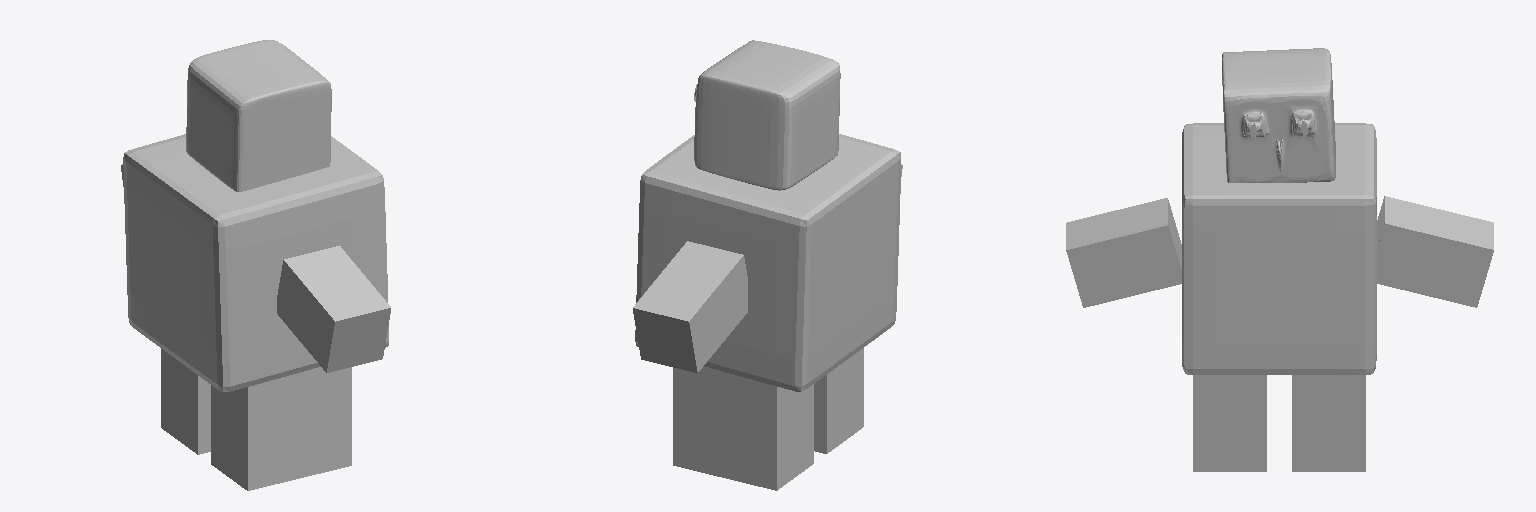
3 renders of one model, left to right at view 1: azimuth 30°, elevation 25°; view 2: azimuth 150°, elevation 25°; view 3: azimuth 270°, elevation 25°, orthographic.
Parts seen in each view (by area): view 1: Cube_Cube.001, Cube.001_Cube.002, Cube.002_Cube.003, Cube.005_Cube.007, Cube.003_Cube.004; view 2: Cube_Cube.001, Cube.001_Cube.002, Cube.003_Cube.004, Cube.004_Cube.005, Cube.002_Cube.003; view 3: Cube_Cube.001, Cube.001_Cube.002, Cube.004_Cube.005, Cube.005_Cube.007, Cube.002_Cube.003, Cube.003_Cube.004.
Boxes of the visible parts, box(x1,y1,x2,y2) form: Cube_Cube.001: box(123, 134, 388, 391); Cube.001_Cube.002: box(186, 40, 331, 191); Cube.002_Cube.003: box(211, 367, 351, 490); Cube.005_Cube.007: box(277, 246, 390, 372); Cube.003_Cube.004: box(161, 349, 210, 454); Cube_Cube.001: box(635, 134, 900, 391); Cube.001_Cube.002: box(694, 40, 840, 190); Cube.003_Cube.004: box(673, 366, 813, 490); Cube.004_Cube.005: box(633, 241, 747, 372); Cube.002_Cube.003: box(814, 348, 863, 453); Cube_Cube.001: box(1182, 123, 1376, 374); Cube.001_Cube.002: box(1222, 48, 1335, 182); Cube.004_Cube.005: box(1377, 196, 1493, 307); Cube.005_Cube.007: box(1066, 198, 1181, 307); Cube.002_Cube.003: box(1193, 375, 1266, 471); Cube.003_Cube.004: box(1292, 375, 1365, 471).
Bounding box in the file's own units: 1.5 × 3.14 × 3.19.